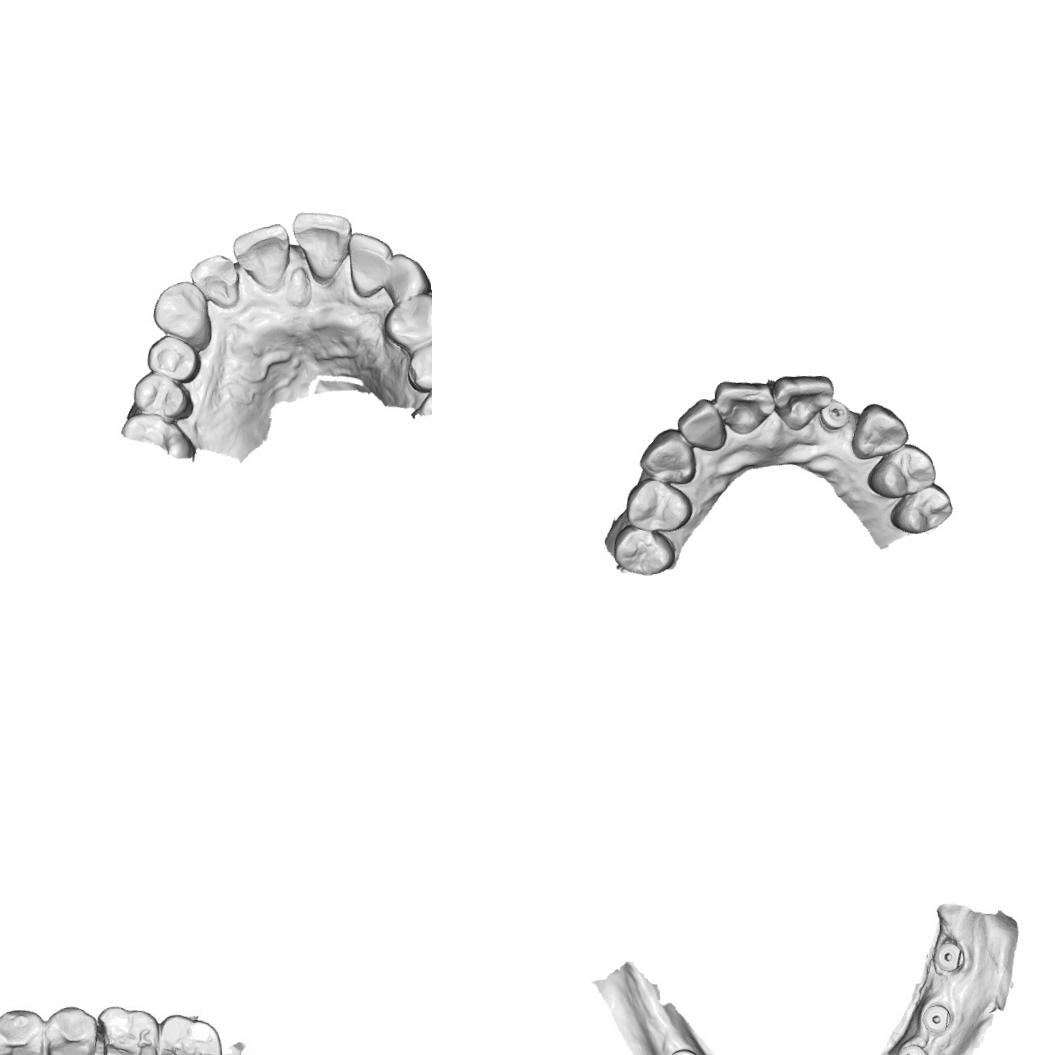canine: (148, 278, 212, 352), (846, 400, 910, 460), (636, 426, 697, 487), (383, 250, 432, 303)
implant: (930, 938, 968, 974), (916, 1001, 954, 1036), (662, 1044, 704, 1055)
implant_minus: (817, 398, 850, 433), (894, 1038, 929, 1055)
incisor: (289, 208, 355, 283), (230, 220, 293, 292), (770, 371, 836, 432), (712, 376, 776, 438), (345, 228, 396, 300), (188, 252, 241, 310), (674, 396, 727, 452)
molar: (96, 1003, 161, 1055), (154, 1010, 227, 1055)
premolar: (862, 440, 937, 500), (623, 474, 694, 534), (610, 520, 676, 578), (886, 482, 955, 536), (39, 997, 100, 1055), (130, 368, 195, 422), (143, 332, 203, 386), (380, 290, 432, 351), (0, 1008, 48, 1055), (403, 335, 432, 393)
